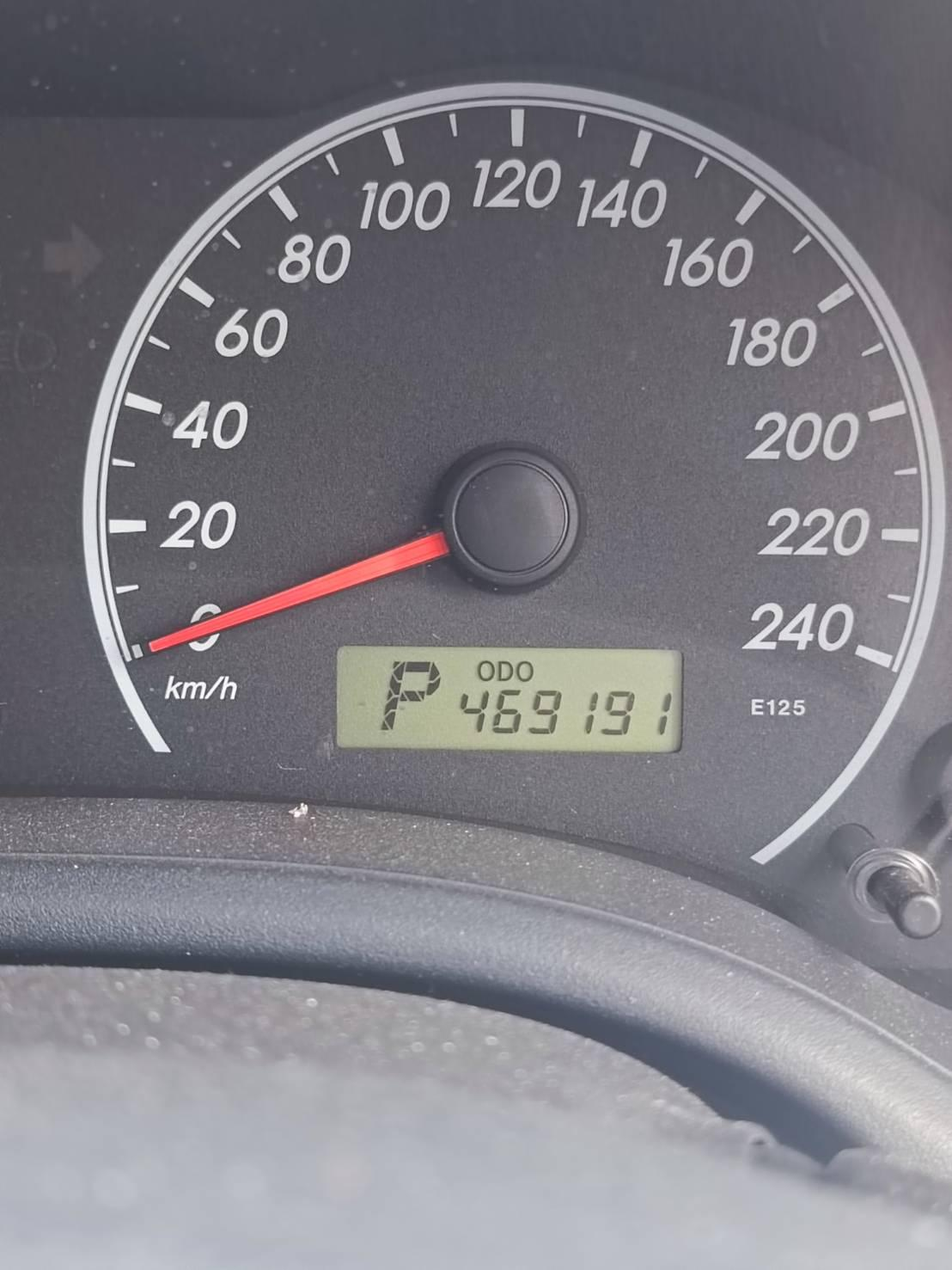1: (657, 692, 673, 738), (583, 690, 599, 735)
4: (459, 690, 490, 733)
6: (492, 690, 523, 735)
9: (527, 690, 563, 735), (600, 691, 636, 735)
X: (378, 660, 442, 732), (516, 661, 534, 683), (477, 660, 495, 681), (497, 661, 514, 682)
odometer: (334, 644, 685, 757)
